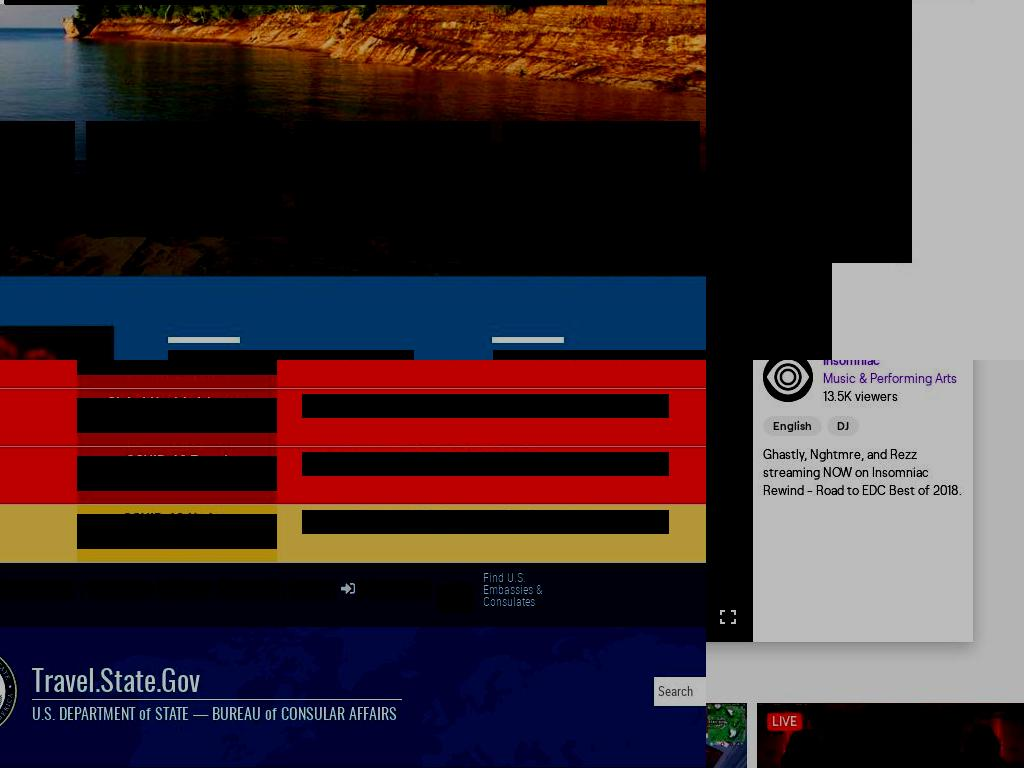button: (502, 121, 700, 237), (86, 121, 283, 237), (294, 121, 491, 237), (757, 703, 1024, 768), (0, 121, 75, 237), (823, 370, 963, 388), (823, 360, 963, 370), (763, 416, 822, 436), (713, 602, 743, 632), (827, 416, 859, 436), (706, 602, 713, 632), (425, 646, 426, 647), (425, 661, 426, 662)
field: (653, 676, 706, 706)
heading: (302, 394, 669, 418), (302, 452, 669, 476), (302, 510, 669, 534), (77, 414, 277, 433), (77, 472, 277, 491), (77, 530, 277, 549), (77, 398, 277, 414), (77, 456, 277, 472), (77, 514, 277, 530), (77, 360, 277, 375), (168, 350, 414, 360), (493, 350, 706, 360), (706, 172, 767, 205)
image: (706, 364, 1024, 768), (706, 387, 1024, 768), (706, 364, 989, 768), (706, 387, 1004, 768), (706, 360, 973, 764), (706, 364, 1024, 665), (706, 387, 1024, 687), (706, 387, 1004, 687), (706, 364, 989, 665), (706, 360, 973, 642), (706, 0, 912, 263), (706, 48, 832, 360), (757, 703, 1024, 768), (763, 592, 983, 642), (576, 141, 626, 190), (160, 141, 209, 190), (368, 141, 417, 190), (763, 360, 813, 402), (436, 584, 473, 613), (718, 607, 738, 627), (757, 703, 763, 768)
link: (0, 579, 75, 599), (823, 360, 963, 370), (217, 579, 280, 599), (88, 579, 147, 599), (290, 579, 331, 599), (772, 713, 797, 731)
text: (763, 446, 963, 500), (31, 698, 402, 727), (31, 671, 426, 696), (333, 190, 452, 216), (483, 572, 558, 609), (548, 190, 654, 216), (139, 190, 229, 216), (355, 579, 427, 599), (823, 388, 898, 406), (157, 579, 207, 599), (765, 418, 820, 434), (0, 190, 27, 216), (829, 418, 857, 434), (80, 579, 83, 599), (149, 579, 152, 599), (209, 579, 212, 599), (282, 579, 285, 599), (333, 579, 336, 599), (429, 579, 432, 599)
